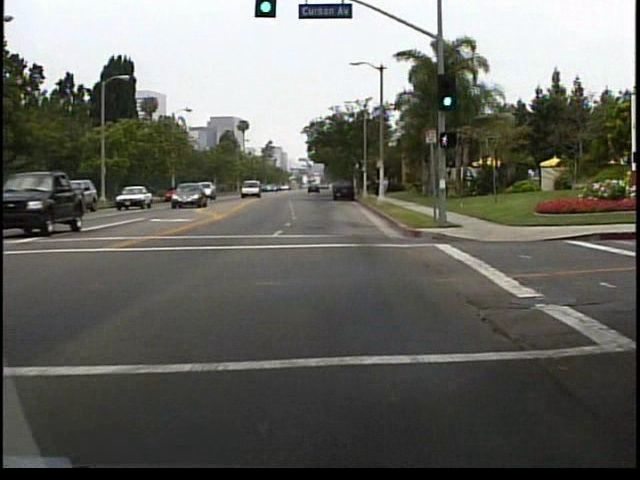person: (374, 176, 383, 200), (384, 173, 392, 196)
